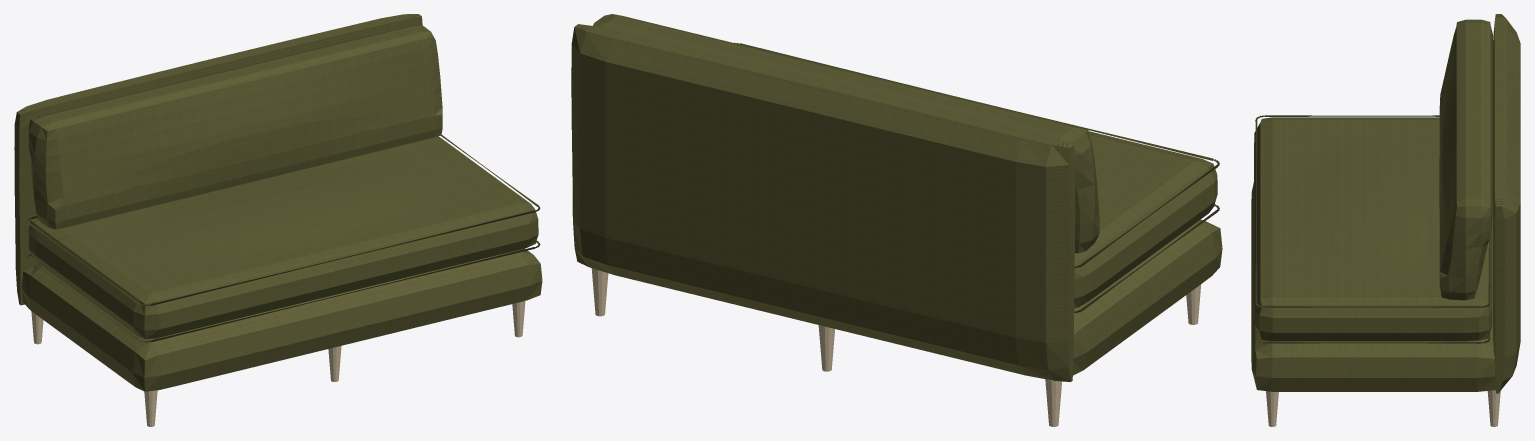
File: ATL-LOV-std.glb
3 renders of one model, left to right at view 1: azimuth 30°, elevation 25°; view 2: azimuth 150°, elevation 25°; view 3: azimuth 270°, elevation 25°, orthographic. The views are drawn at different scales.
Parts seen in each view (by area): view 1: seat:fabric:eyJwcmVzZXQiOiJoZXJyaW5nYm9uZSIsIndhcnAiOiJvbGl2, inside-back:fabric:eyJwcmVzZXQiOiJoZXJyaW5nYm9uZSIsIndhcnAiO, deck:fabric:eyJwcmVzZXQiOiJoZXJyaW5nYm9uZSIsIndhcnAiOiJvbGl2, back-pad:fabric:eyJwcmVzZXQiOiJoZXJyaW5nYm9uZSIsIndhcnAiOiJv, seat:piping:pbr; view 2: back-pad:fabric:eyJwcmVzZXQiOiJoZXJyaW5nYm9uZSIsIndhcnAiOiJv, seat:fabric:eyJwcmVzZXQiOiJoZXJyaW5nYm9uZSIsIndhcnAiOiJvbGl2, inside-back:fabric:eyJwcmVzZXQiOiJoZXJyaW5nYm9uZSIsIndhcnAiO, deck:fabric:eyJwcmVzZXQiOiJoZXJyaW5nYm9uZSIsIndhcnAiOiJvbGl2, seat:piping:pbr, leg-bl:pbr, leg-br:pbr, leg-cb:pbr; view 3: seat:fabric:eyJwcmVzZXQiOiJoZXJyaW5nYm9uZSIsIndhcnAiOiJvbGl2, inside-back:fabric:eyJwcmVzZXQiOiJoZXJyaW5nYm9uZSIsIndhcnAiO, deck:fabric:eyJwcmVzZXQiOiJoZXJyaW5nYm9uZSIsIndhcnAiOiJvbGl2, back-pad:fabric:eyJwcmVzZXQiOiJoZXJyaW5nYm9uZSIsIndhcnAiOiJv, seat:piping:pbr, leg-br:pbr, leg-fr:pbr.
Part boxes in pixels (x1,y1,x2,y2): seat:fabric:eyJwcmVzZXQiOiJoZXJyaW5nYm9uZSIsIndhcnAiOiJvbGl2: (28, 136, 538, 338); inside-back:fabric:eyJwcmVzZXQiOiJoZXJyaW5nYm9uZSIsIndhcnAiO: (28, 24, 442, 229); deck:fabric:eyJwcmVzZXQiOiJoZXJyaW5nYm9uZSIsIndhcnAiOiJvbGl2: (21, 248, 542, 391); back-pad:fabric:eyJwcmVzZXQiOiJoZXJyaW5nYm9uZSIsIndhcnAiOiJv: (14, 14, 422, 305); seat:piping:pbr: (27, 135, 540, 342); back-pad:fabric:eyJwcmVzZXQiOiJoZXJyaW5nYm9uZSIsIndhcnAiOiJv: (571, 24, 1075, 381); seat:fabric:eyJwcmVzZXQiOiJoZXJyaW5nYm9uZSIsIndhcnAiOiJvbGl2: (1074, 131, 1217, 308); inside-back:fabric:eyJwcmVzZXQiOiJoZXJyaW5nYm9uZSIsIndhcnAiO: (593, 14, 1099, 253); deck:fabric:eyJwcmVzZXQiOiJoZXJyaW5nYm9uZSIsIndhcnAiOiJvbGl2: (1073, 219, 1222, 375); seat:piping:pbr: (734, 42, 1219, 313); leg-bl:pbr: (1045, 379, 1061, 426); leg-br:pbr: (591, 268, 608, 316); leg-cb:pbr: (818, 325, 834, 371); seat:fabric:eyJwcmVzZXQiOiJoZXJyaW5nYm9uZSIsIndhcnAiOiJvbGl2: (1254, 117, 1492, 341); inside-back:fabric:eyJwcmVzZXQiOiJoZXJyaW5nYm9uZSIsIndhcnAiO: (1439, 19, 1492, 300); deck:fabric:eyJwcmVzZXQiOiJoZXJyaW5nYm9uZSIsIndhcnAiOiJvbGl2: (1251, 182, 1495, 391); back-pad:fabric:eyJwcmVzZXQiOiJoZXJyaW5nYm9uZSIsIndhcnAiOiJv: (1493, 14, 1520, 393); seat:piping:pbr: (1255, 115, 1490, 343); leg-br:pbr: (1487, 390, 1500, 426); leg-fr:pbr: (1266, 391, 1278, 426).
Bounding box in the file's own units: 1.45 × 0.8 × 0.85.
Materials: 11 (4 with a texture image).
